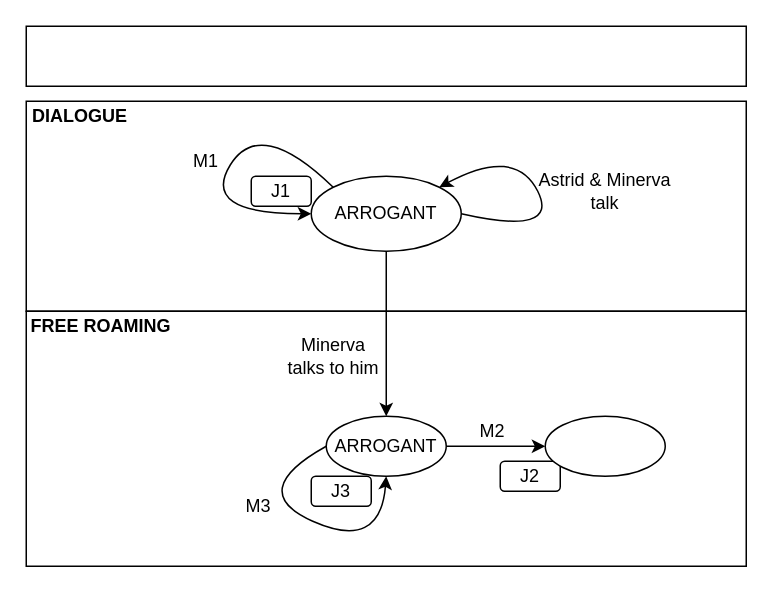
Image size: 773x593. Some labels were removed from this diagram. The box of each missing label's shape, as (x1, y1, x2, y2) in pixels:
AGGRESSIVE: (544, 415, 665, 476)
BEFORE THE BEGINNING OF THE SECOND CHALLENGE: (25, 25, 746, 86)
